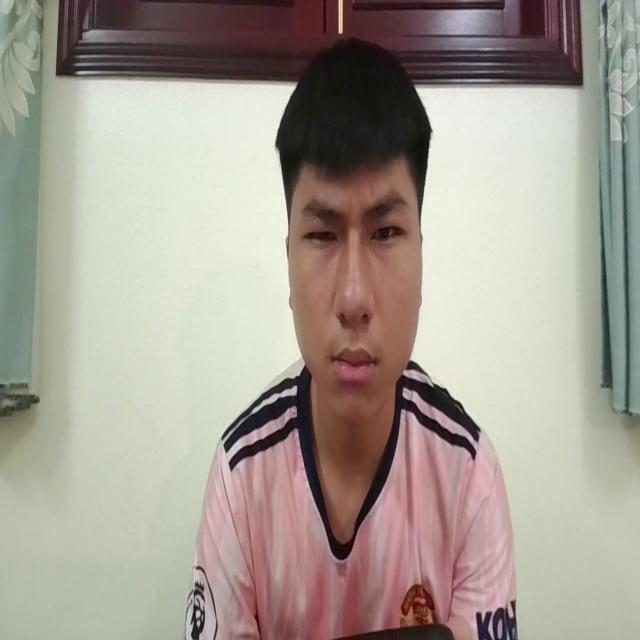student: (188, 31, 518, 640)
